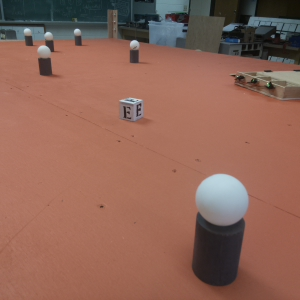blockE: (119, 97, 145, 126)
corner: (106, 8, 116, 41)
obstacle: (192, 174, 253, 286), (35, 45, 54, 78), (128, 40, 141, 65), (23, 28, 34, 48), (43, 33, 55, 50), (73, 29, 83, 47)
side: (232, 71, 299, 100)
